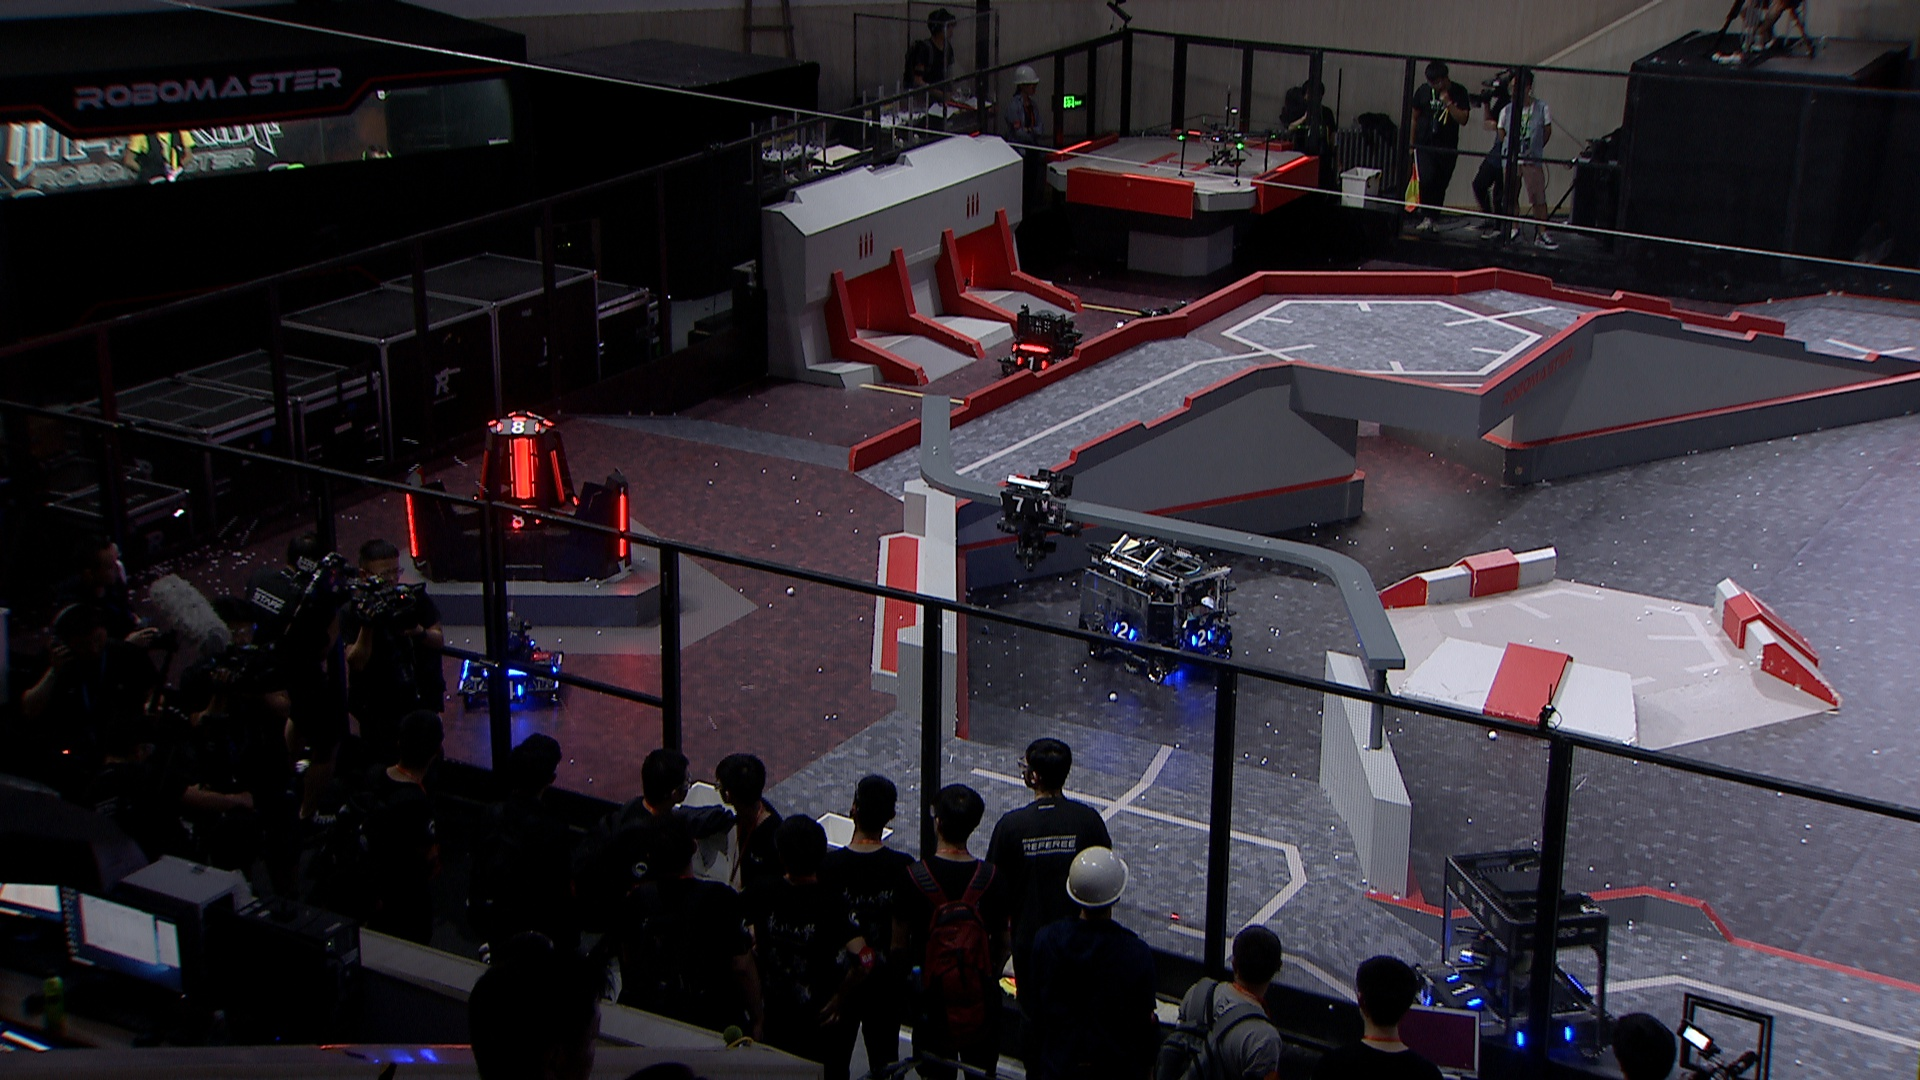armor: (506, 436, 539, 502), (1444, 972, 1482, 1007), (404, 491, 422, 560), (615, 491, 632, 560), (547, 447, 567, 504), (472, 447, 491, 502), (996, 493, 1040, 514), (495, 419, 543, 438), (502, 512, 542, 531), (1013, 353, 1048, 375), (1187, 626, 1215, 651), (1112, 621, 1138, 641), (505, 680, 526, 700)
base: (401, 411, 636, 585)
car: (1411, 844, 1617, 1063), (1081, 529, 1234, 684), (456, 615, 564, 708), (993, 301, 1091, 389)
watcher: (992, 469, 1087, 572)
